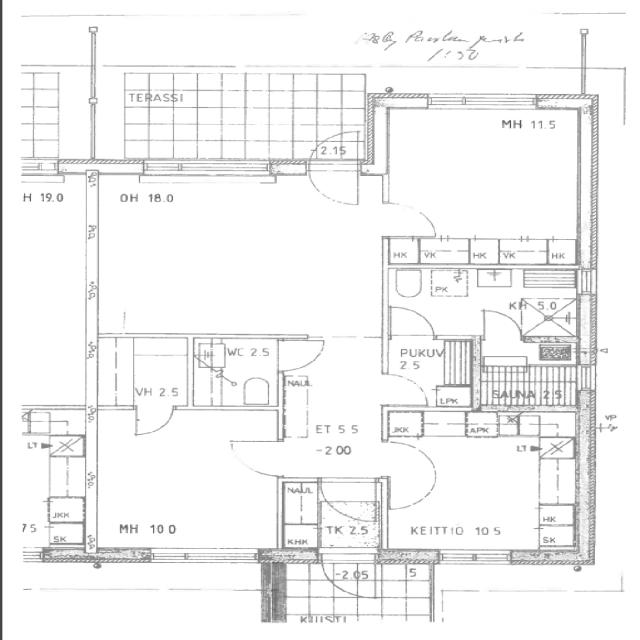door: (305, 159, 364, 210), (382, 437, 435, 489), (225, 436, 287, 479), (383, 198, 442, 238), (385, 303, 440, 342), (274, 337, 328, 375), (378, 372, 429, 408), (476, 306, 527, 342), (130, 402, 178, 440)
window: (138, 158, 275, 183), (422, 92, 538, 113), (154, 545, 258, 566), (435, 547, 517, 568), (150, 548, 192, 565), (25, 546, 45, 562)
zone: (378, 102, 584, 252), (90, 414, 283, 556), (380, 418, 577, 556), (279, 339, 383, 479), (477, 336, 580, 409), (93, 336, 192, 408), (385, 333, 476, 403), (194, 337, 280, 409), (318, 478, 384, 560), (44, 522, 88, 551), (384, 410, 425, 439), (47, 497, 85, 523), (385, 238, 420, 266), (547, 238, 579, 266)
